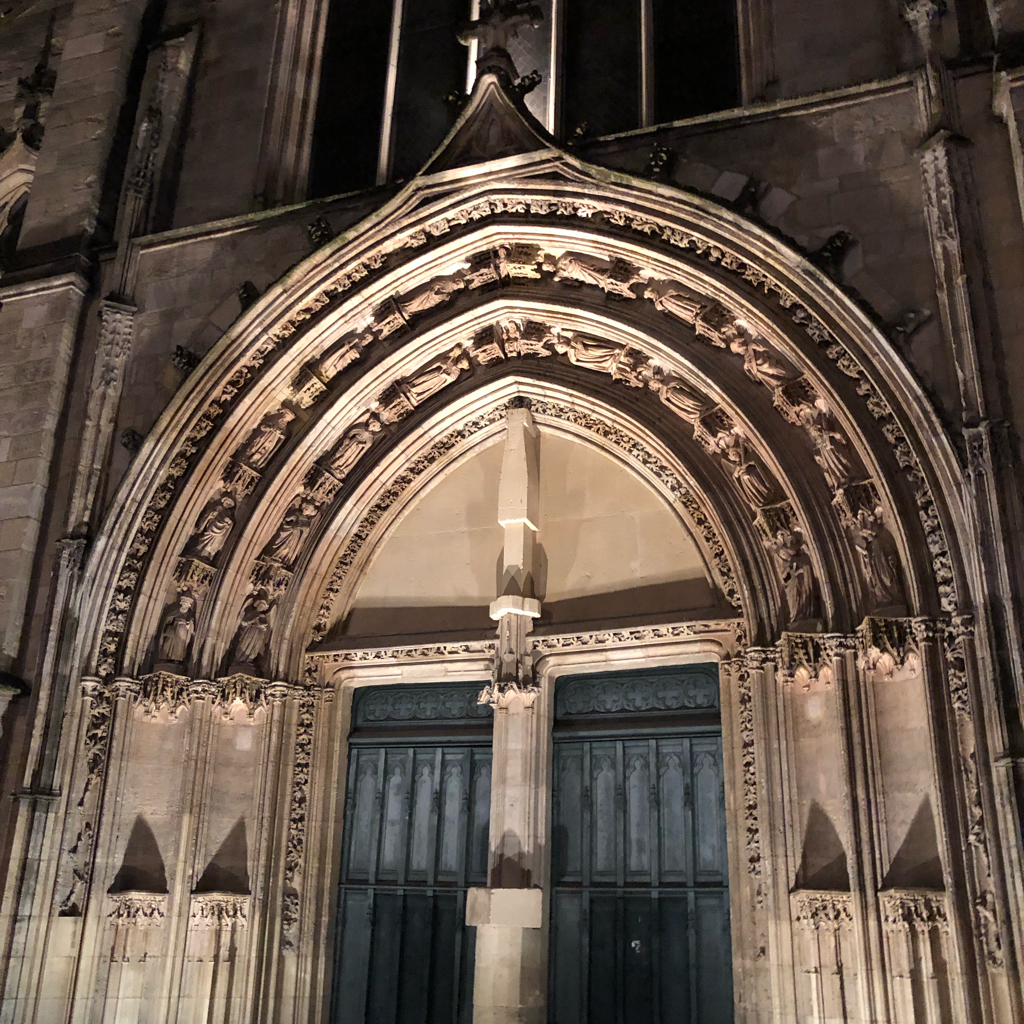arco-apuntado: (140, 179, 914, 672)
arco-conopial: (279, 55, 792, 260)
